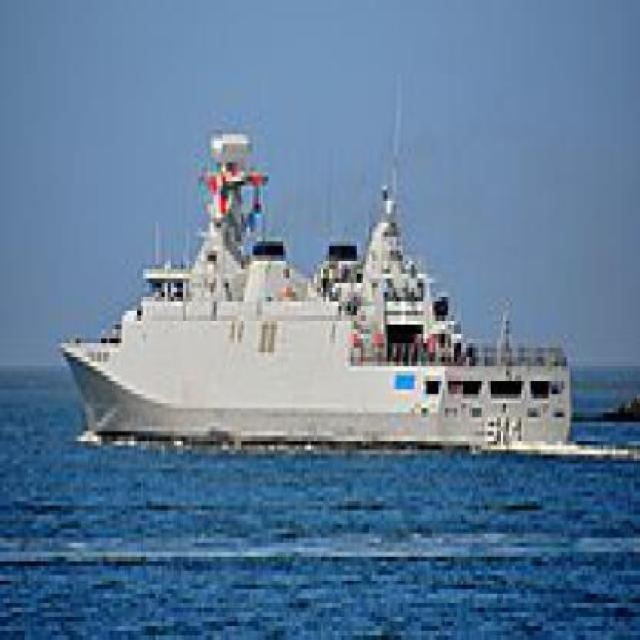warship2: (25, 85, 592, 483)
